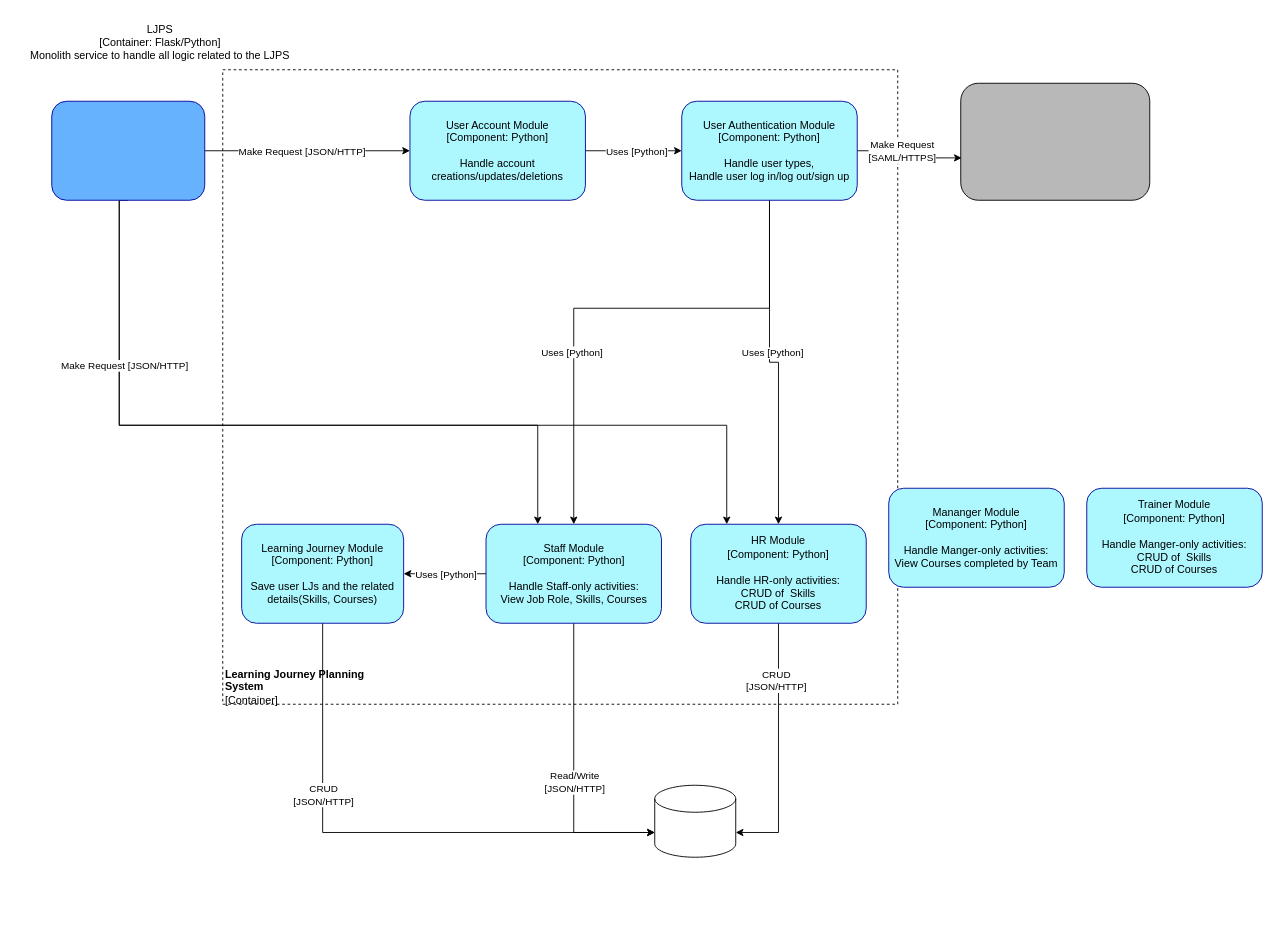
Image size: 1278x925. Some labels were removed from this diagram. Here are the shapes that lost their labels. From the top down, the centre of each, then its label:
At [128,150]: "Front-End [Container:HTML/JavaScript- React.js] Static UI".
At [1055,141]: "Azure SSO External Software Handles secured logins / logouts".
At [695,820]: "DB (Amazon RDS) Store info on Skills, Users' Learning Journeys".
